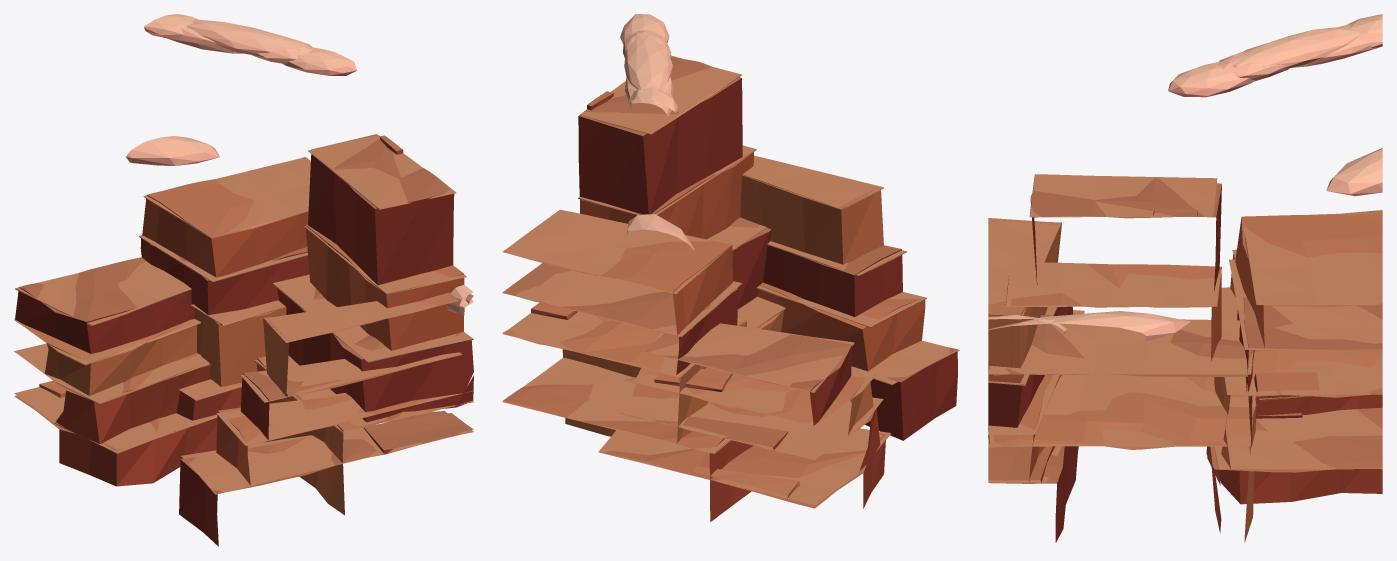
3 views of the same model, side by side, from view 1: azimuth 30°, elevation 25°; view 2: azimuth 150°, elevation 25°; view 3: azimuth 270°, elevation 25° (orthographic). The views are drawn at different scales.
Parts seen in each view (by area): view 1: scene.6.2 (×2); view 2: scene.6.2 (×2); view 3: scene.6.2 (×2).
Boxes of the visible parts, x1=… form: scene.6.2 (×2): x1=14, y1=14, x2=473, y2=546; scene.6.2 (×2): x1=502, y1=14, x2=959, y2=521; scene.6.2 (×2): x1=988, y1=14, x2=1382, y2=542.
Size of the model in its own units: 62.5 by 78.99 by 62.5.
